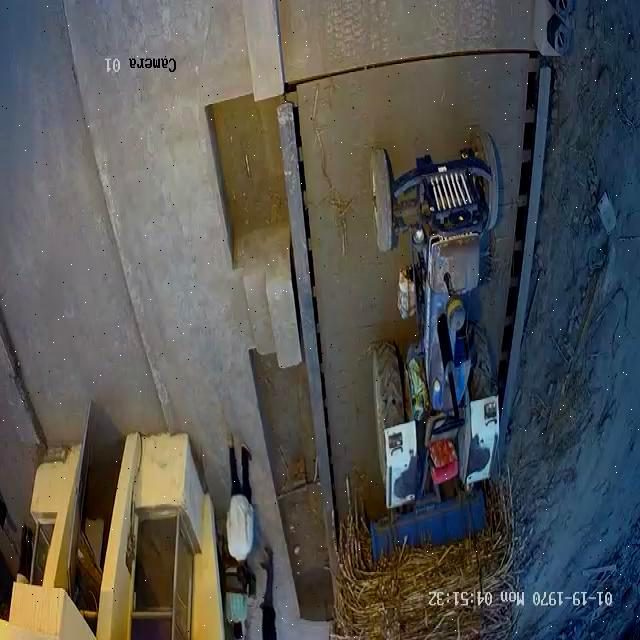Tratores - v5 YOLO V8L 2024-11-13: (366, 115, 505, 489)
